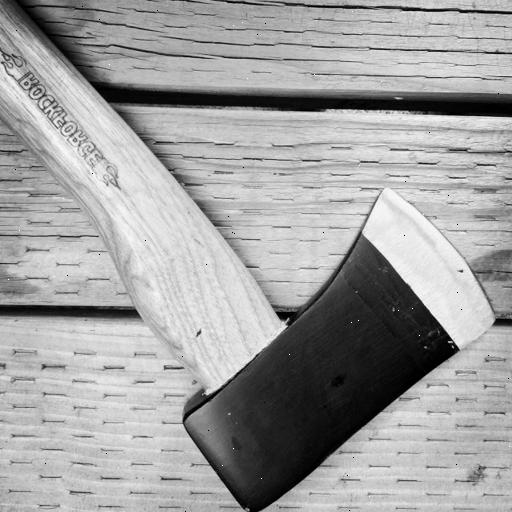Axe: (0, 1, 495, 512)
